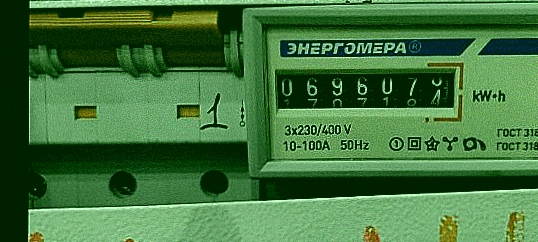0: (379, 73, 394, 95), (279, 76, 293, 97)
4: (429, 86, 442, 107)
6: (304, 75, 318, 96), (354, 75, 368, 95)
7: (404, 75, 419, 96)
9: (329, 75, 342, 96)
screen: (262, 59, 468, 119)
